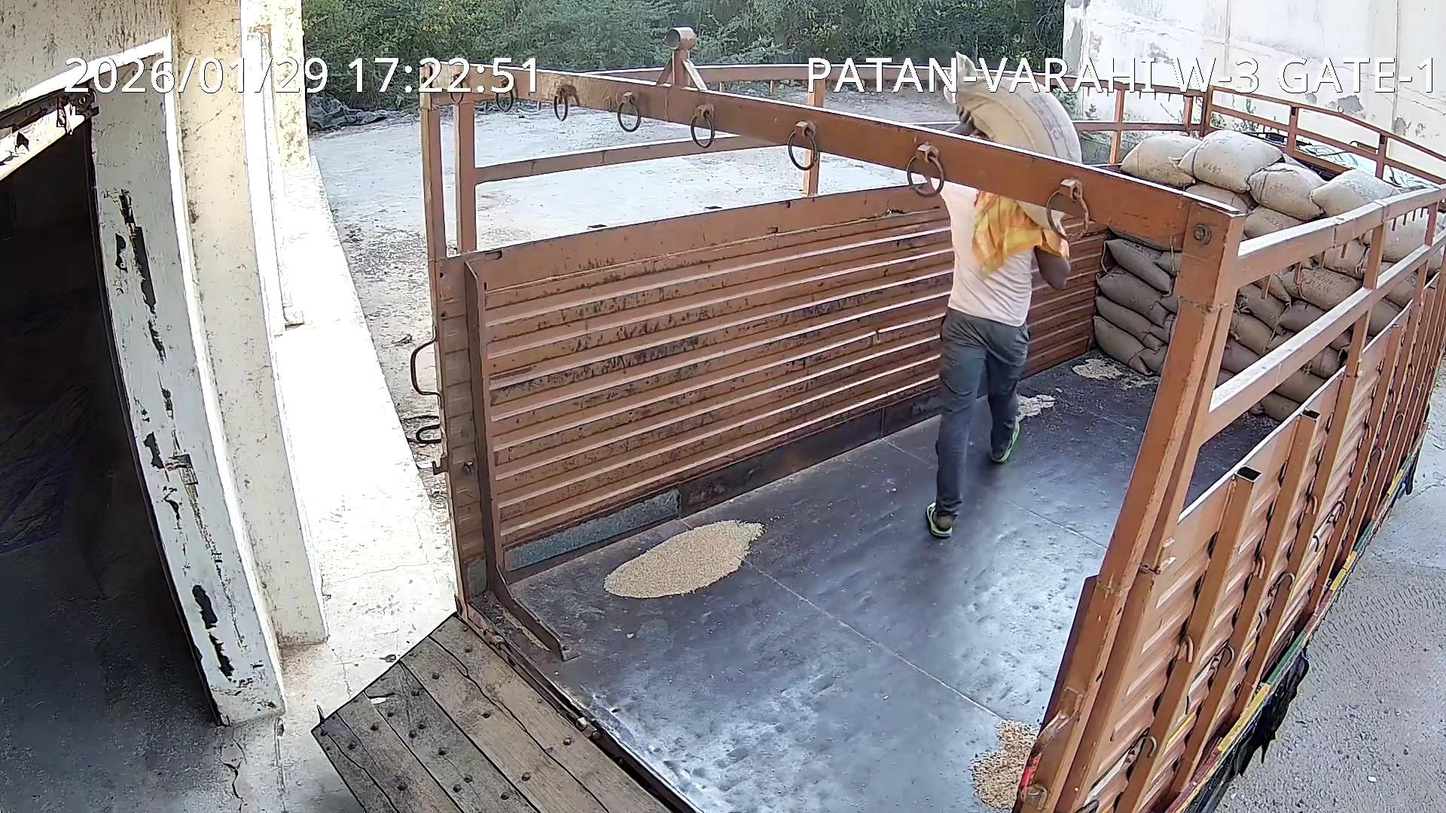Sack: (950, 53, 1080, 160), (1022, 203, 1062, 227)
